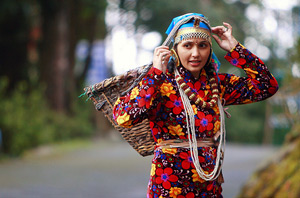human: (110, 9, 282, 198)
